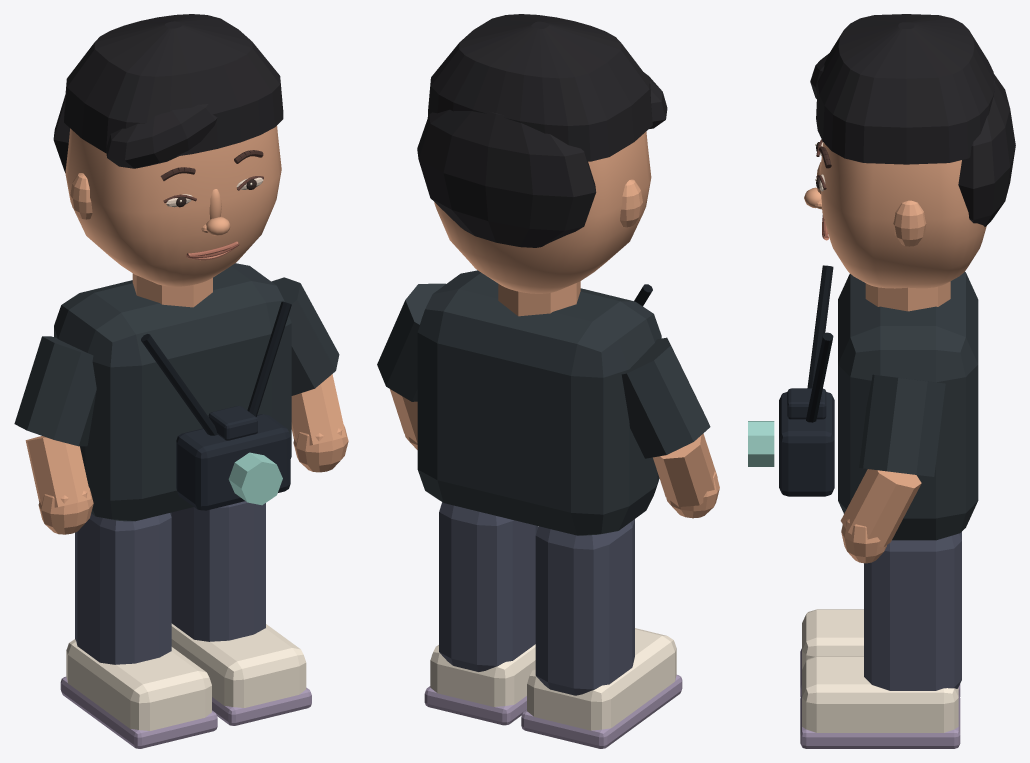
The model's file is sam-avatar-635b37b8aa.glb.
The picture shows the model from 3 angles, left to right: view 1: azimuth 30°, elevation 25°; view 2: azimuth 150°, elevation 25°; view 3: azimuth 270°, elevation 25°; orthographic projection. The views are drawn at different scales.
Parts seen in each view (by area): view 1: HeadMesh, BodyMesh, LegLMesh, LegRMesh, ArmLMesh, ArmRMesh; view 2: HeadMesh, BodyMesh, LegLMesh, LegRMesh, ArmLMesh, ArmRMesh; view 3: HeadMesh, BodyMesh, LegRMesh, ArmRMesh, LegLMesh.
Part boxes in pixels (left/top/right/bottom): HeadMesh: left=53, top=14, right=283, bottom=286; BodyMesh: left=54, top=263, right=291, bottom=521; LegLMesh: left=60, top=513, right=217, bottom=748; LegRMesh: left=170, top=501, right=311, bottom=725; ArmLMesh: left=14, top=336, right=96, bottom=534; ArmRMesh: left=271, top=277, right=348, bottom=472; HeadMesh: left=417, top=14, right=667, bottom=293; BodyMesh: left=417, top=270, right=661, bottom=535; LegLMesh: left=521, top=519, right=682, bottom=748; LegRMesh: left=424, top=502, right=538, bottom=725; ArmLMesh: left=621, top=337, right=719, bottom=518; ArmRMesh: left=377, top=283, right=445, bottom=449; HeadMesh: left=804, top=14, right=1015, bottom=288; BodyMesh: left=748, top=265, right=978, bottom=540; LegRMesh: left=800, top=532, right=961, bottom=748; ArmRMesh: left=840, top=374, right=945, bottom=563; LegLMesh: left=800, top=609, right=960, bottom=696.
Size of the model in its own units: 1.13 by 2.3 by 0.82.
